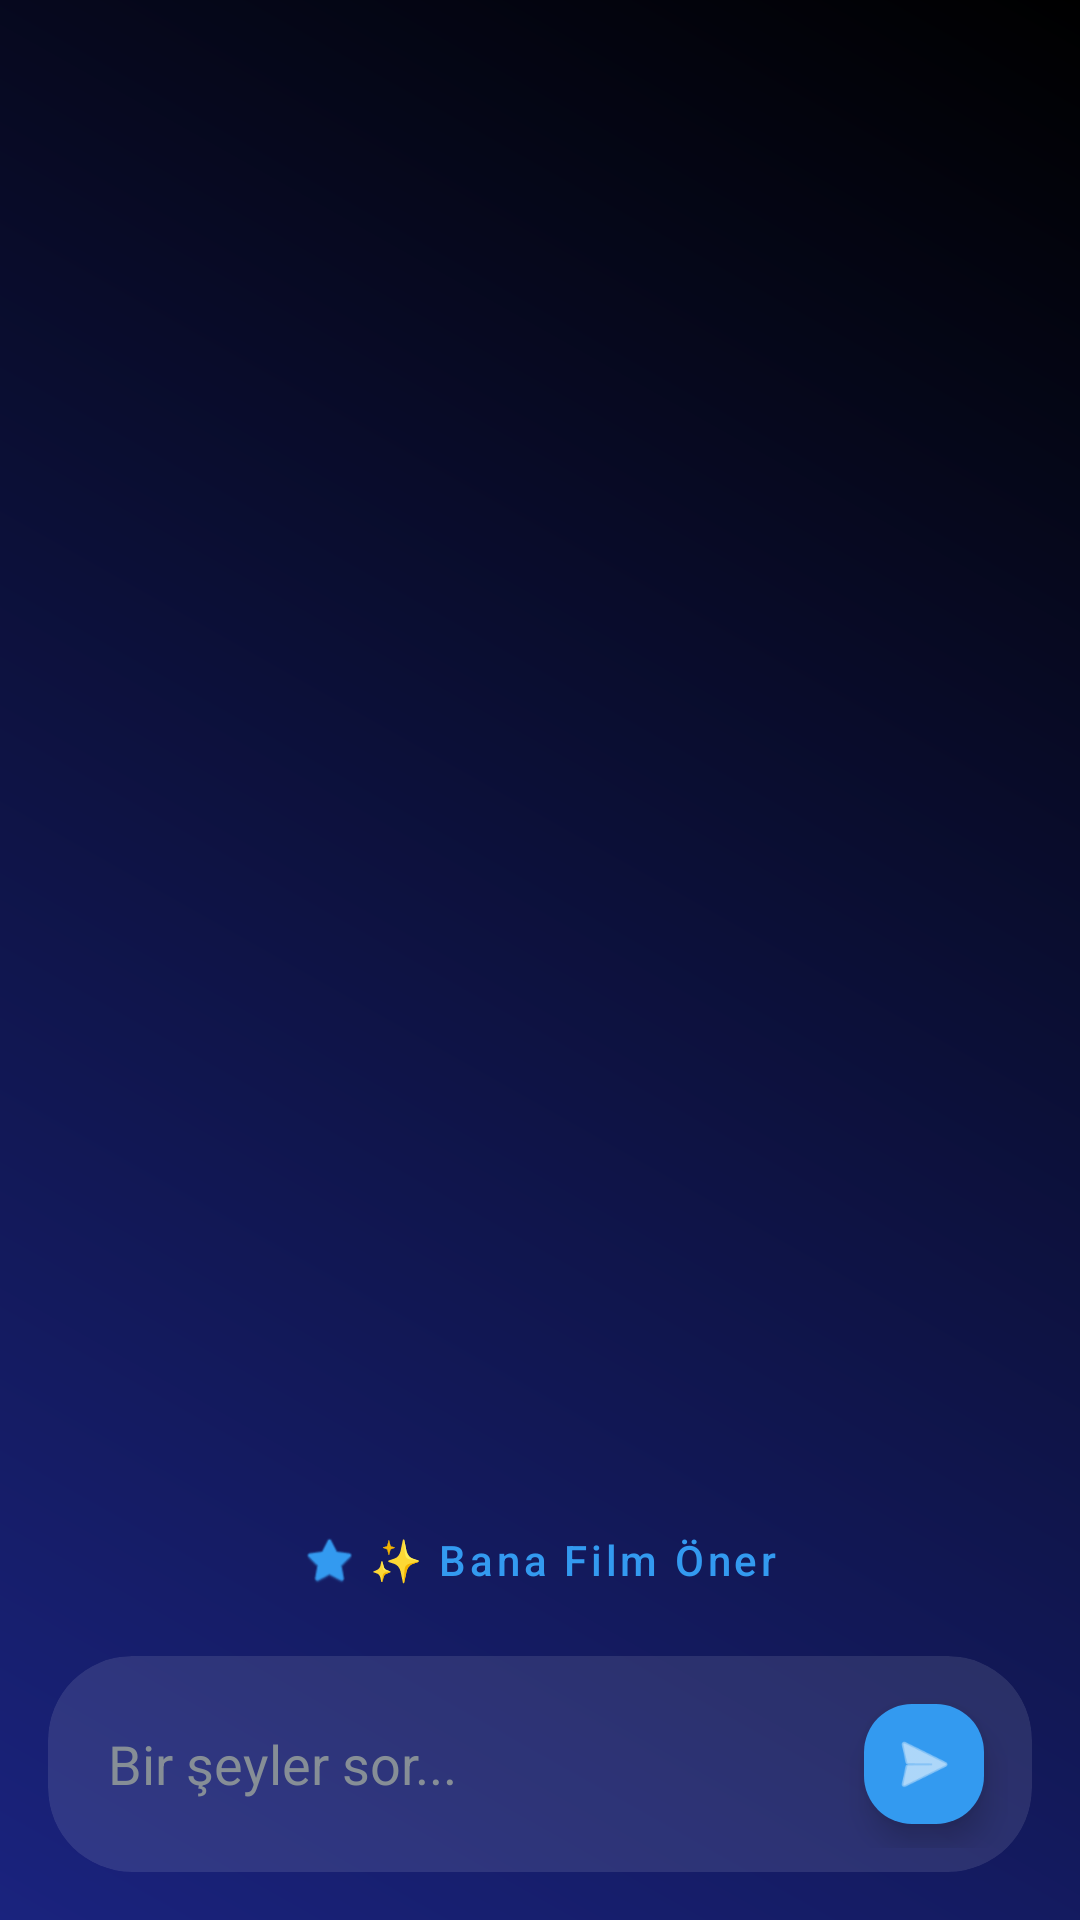

Icons on this 1080*1920 Android screen, each with its box as rect(x1, y1, x2, y2):
send: rect(864, 1704, 984, 1824)
